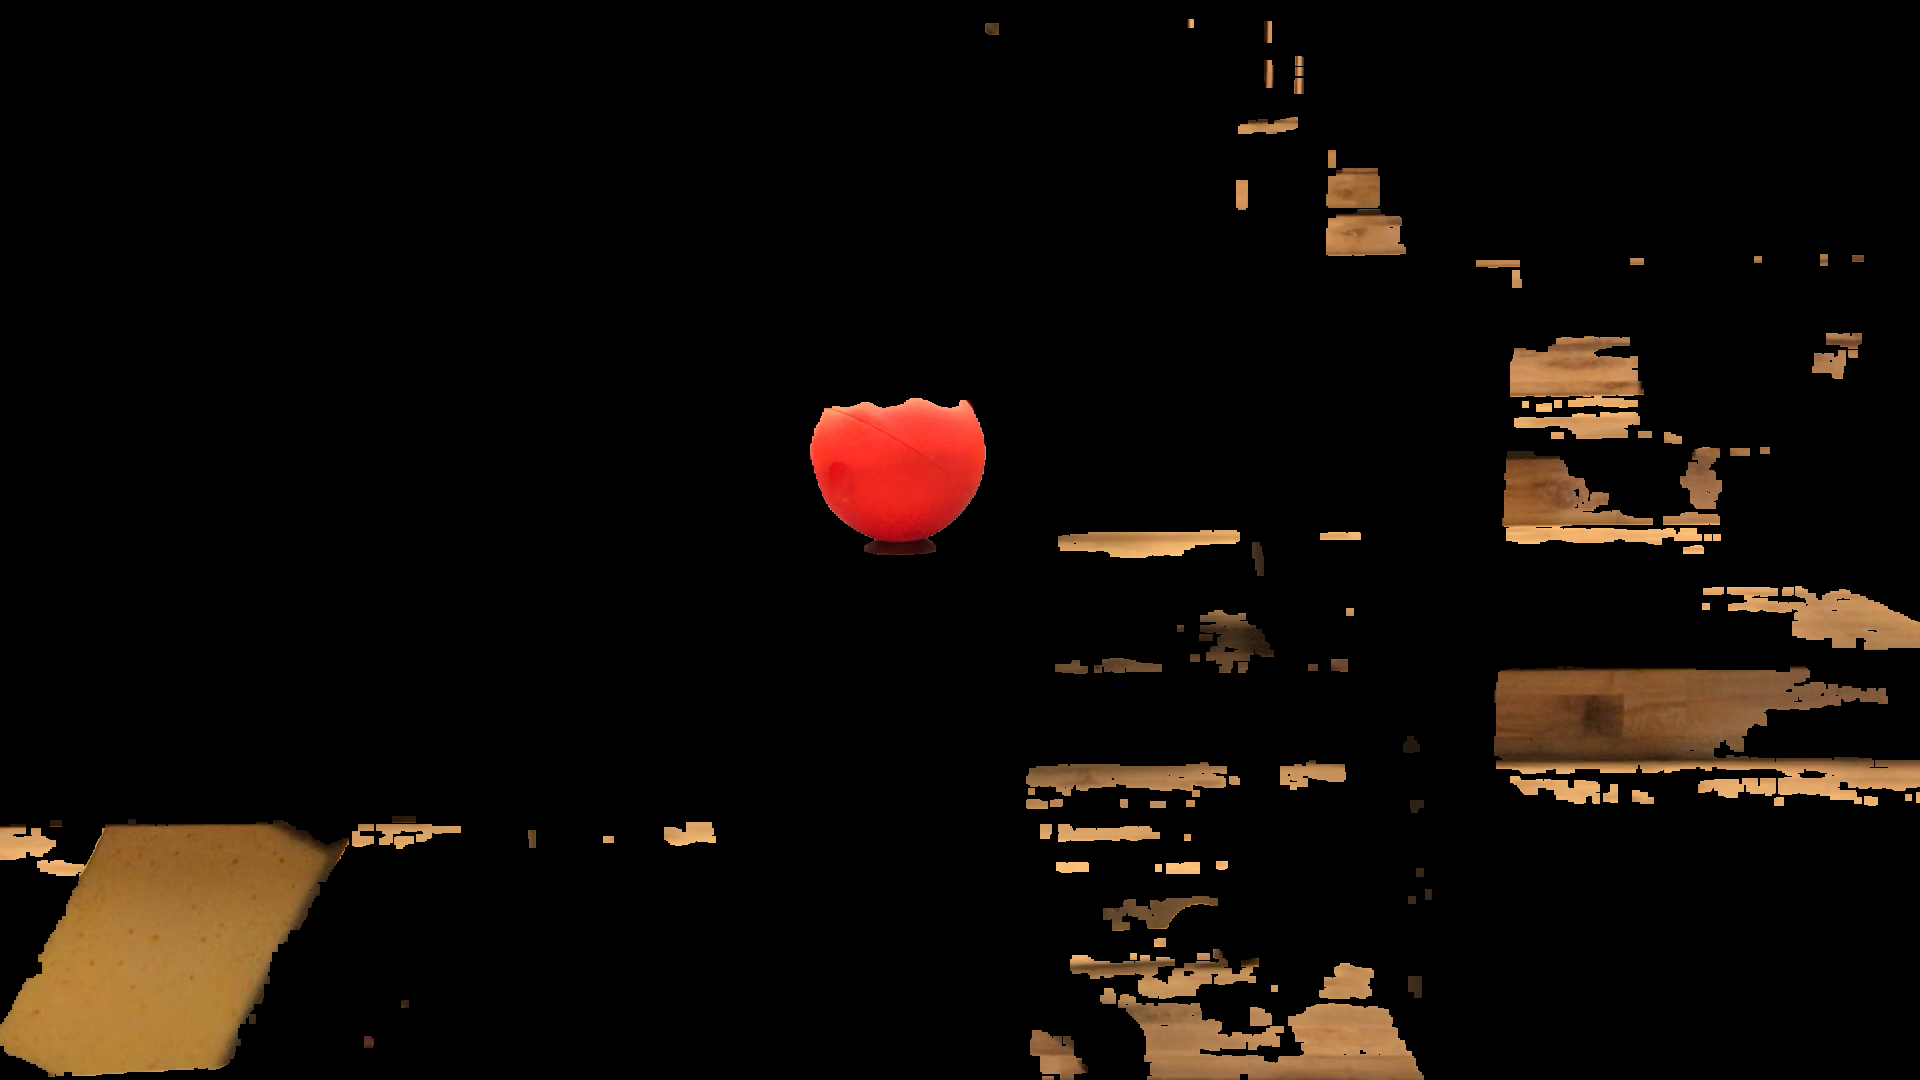Ball: (815, 365, 988, 546)
